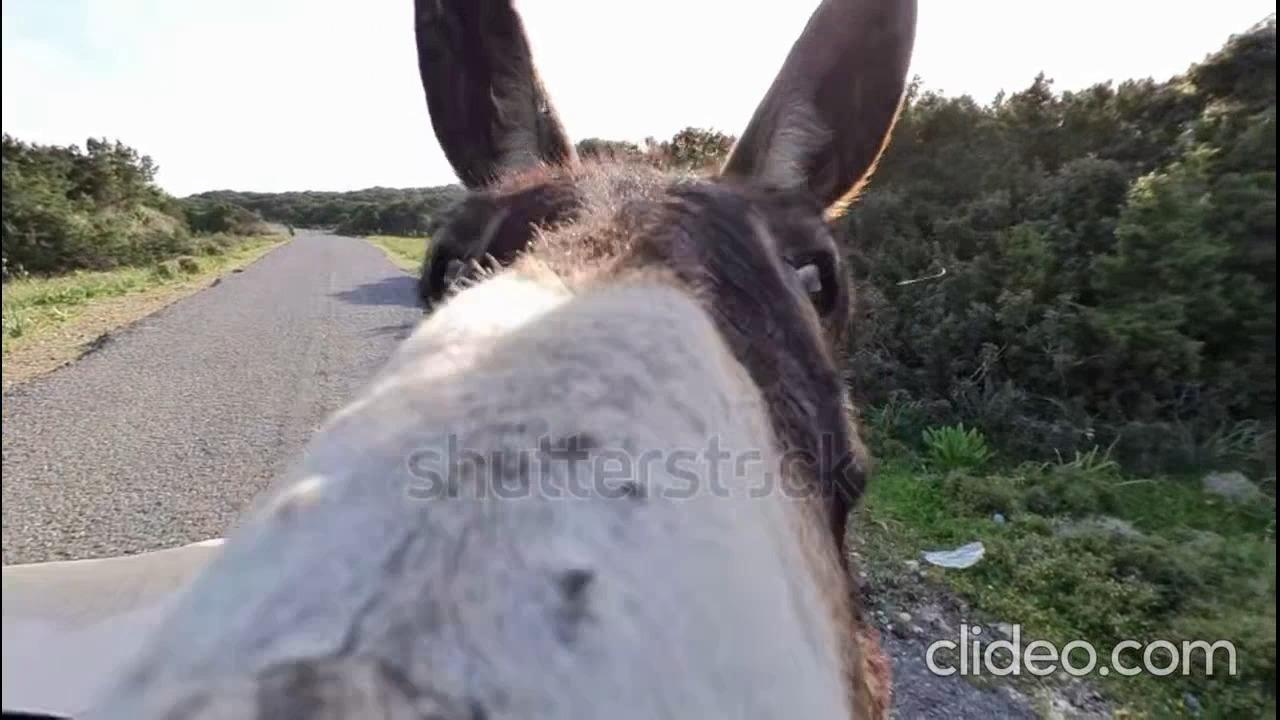Donkey: (59, 0, 919, 720)
